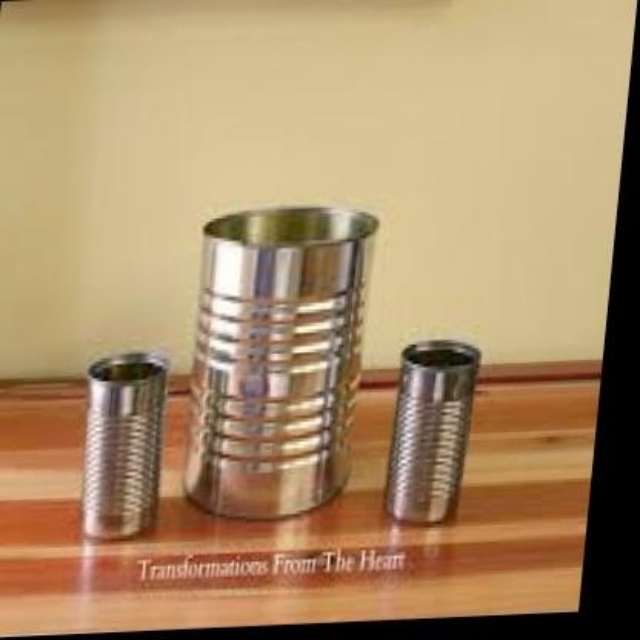trash: (186, 206, 377, 517), (386, 340, 478, 522), (82, 352, 168, 538)
